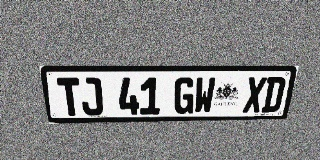1: (140, 77, 160, 115)
4: (118, 77, 139, 115)
D: (261, 77, 287, 112)
G: (174, 77, 195, 114)
J: (79, 78, 103, 116)
T: (56, 78, 82, 116)
W: (193, 77, 216, 114)
X: (242, 77, 267, 113)
